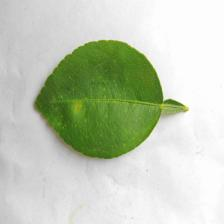greening: (54, 82, 93, 124)
